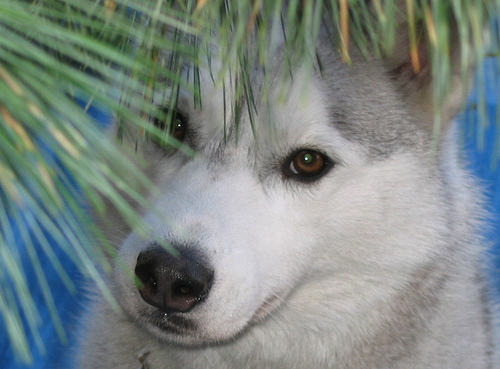dog: (51, 0, 499, 368)
